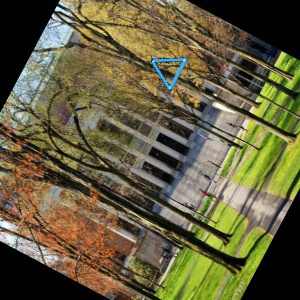triangle: (148, 56, 189, 92)
